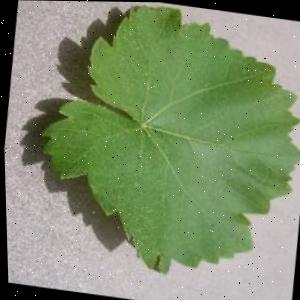Folha: (20, 0, 300, 290)
